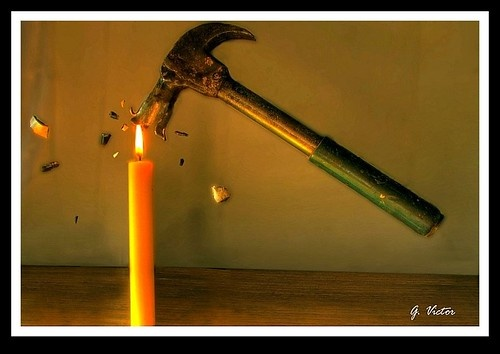hammer: (129, 21, 447, 239)
